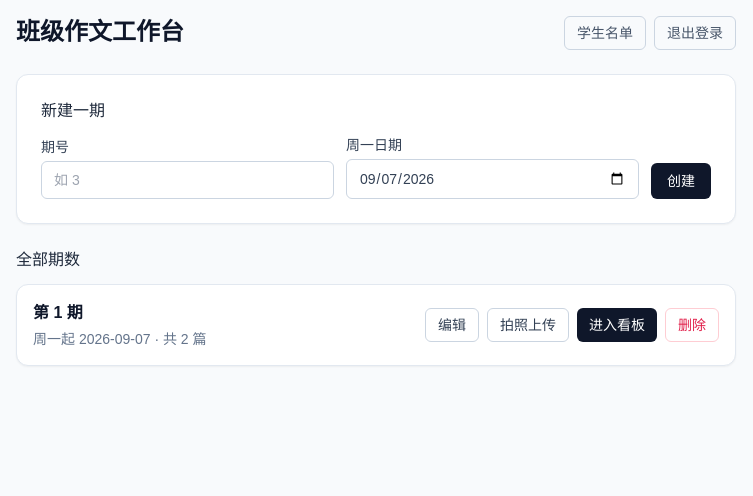
IssuePage 编辑期数（v1.2 OPT-02） › opens an inline form prefilled with the current issue_no and week
Expected: the text "第 1 期" is shown, [33,304,83,321]
Click the button with test id "edit-issue".
click(452, 325)  # box [425,308,479,342]
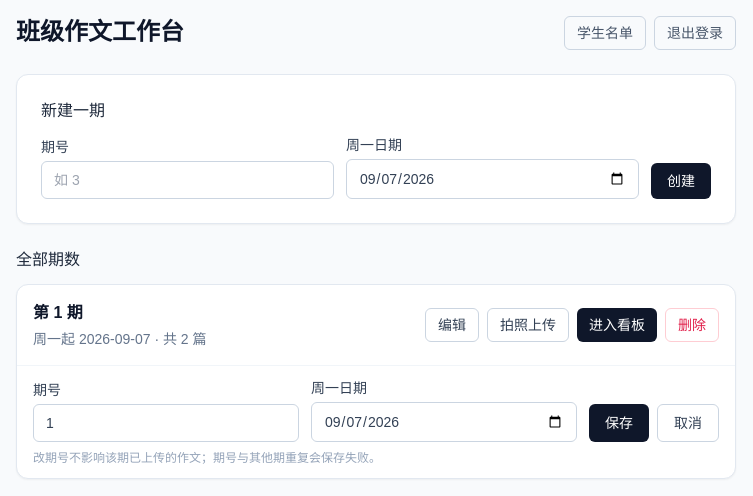
Expected: the number field with test id "edit-issue-no" holds "1", [33,404,299,442]
Now the date field with test id "edit-week" holds "2026-09-07", box [311,402,577,442]
